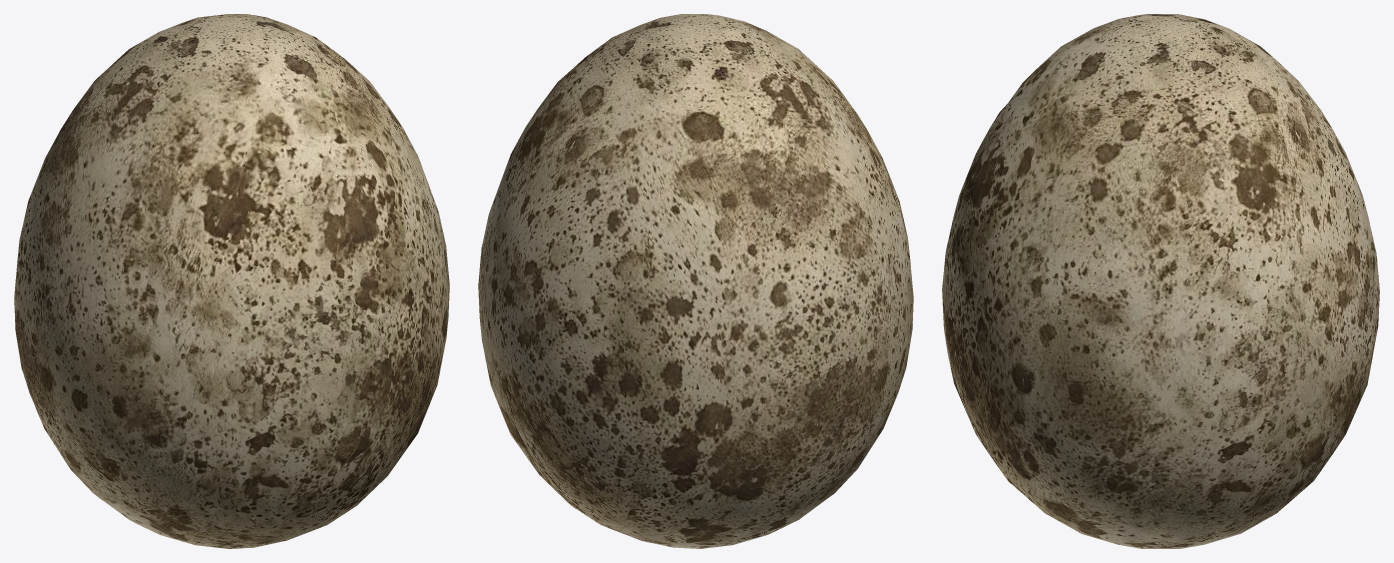
File: dinoegg.glb
The picture shows the model from 3 angles, left to right: view 1: azimuth 30°, elevation 25°; view 2: azimuth 150°, elevation 25°; view 3: azimuth 270°, elevation 25°; orthographic projection.
Visible parts, largest first — view 1: Mesh_0; view 2: Mesh_0; view 3: Mesh_0.
Boxes of the visible parts, x1,y1,x2,y2 form: Mesh_0: (14,14,449,548); Mesh_0: (478,14,913,548); Mesh_0: (942,14,1379,548).
Size of the model in its own units: 1.49 by 1.9 by 1.49.
Materials: 1 (1 with a texture image).
